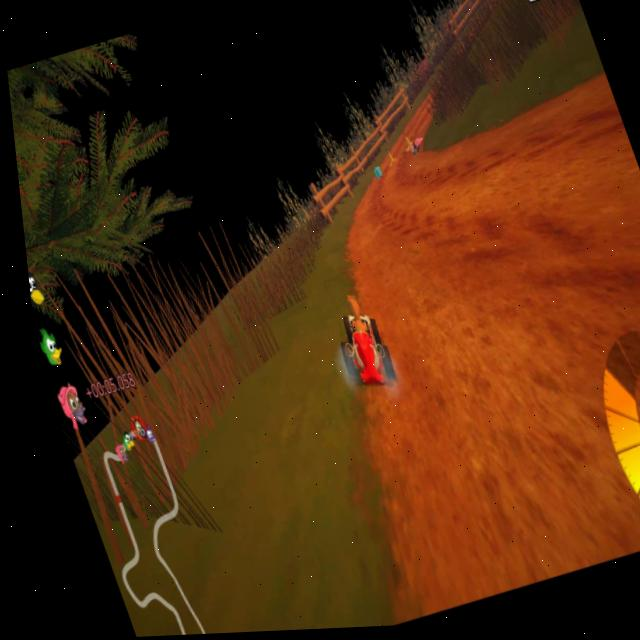bonus: (366, 166, 380, 183)
obstacle: (378, 149, 395, 170)
off_track: (119, 154, 359, 345), (426, 37, 590, 123)
player_kart: (312, 290, 396, 409)
track: (345, 137, 640, 408)
